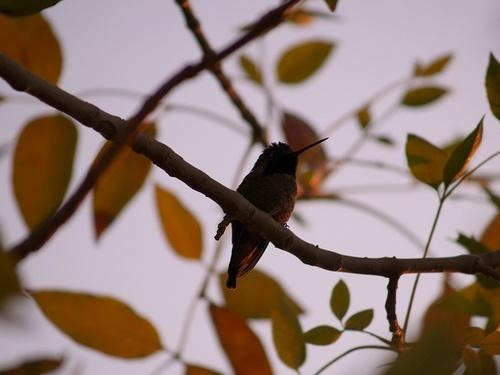bird: (227, 135, 330, 291)
